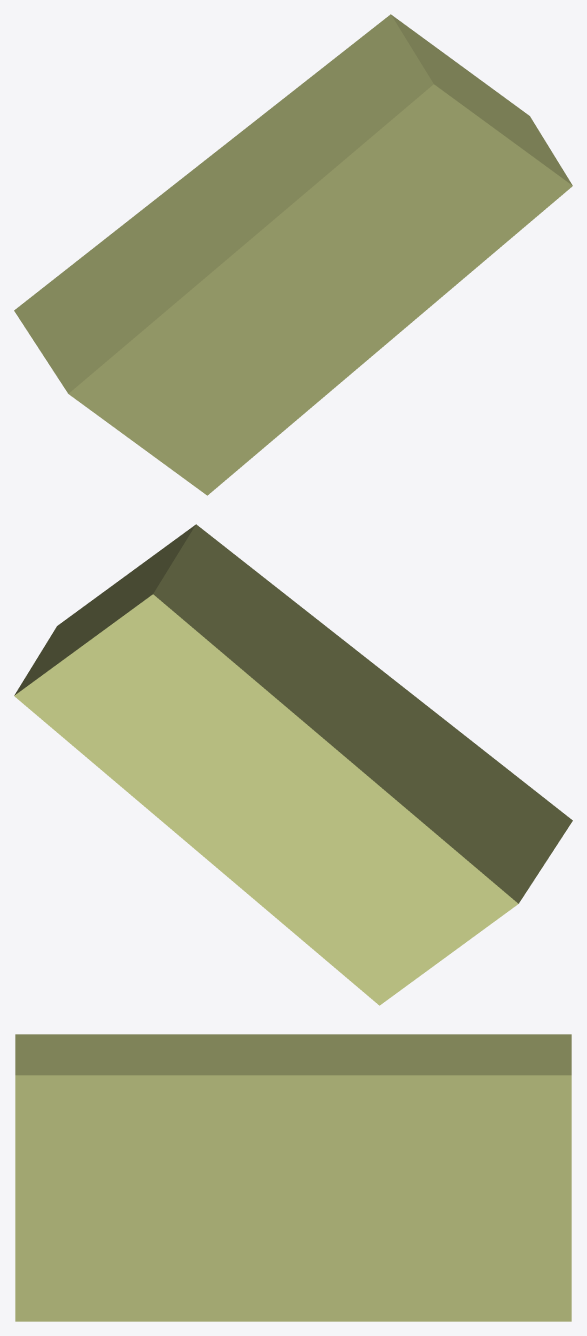
The picture shows the model from 3 angles, top to bottom: view 1: azimuth 30°, elevation 25°; view 2: azimuth 150°, elevation 25°; view 3: azimuth 270°, elevation 25°; orthographic projection. The views are drawn at different scales.
Parts seen in each view (by area): view 1: 0_1_1_3_2_2_3_3_0_0_2; view 2: 0_1_1_3_2_2_3_3_0_0_2; view 3: 0_1_1_3_2_2_3_3_0_0_2.
Part boxes in pixels (box(x1,y1,x2,y2)): 0_1_1_3_2_2_3_3_0_0_2: box(14, 14, 572, 495); 0_1_1_3_2_2_3_3_0_0_2: box(14, 524, 572, 1005); 0_1_1_3_2_2_3_3_0_0_2: box(15, 1034, 571, 1321).
Bounding box in the file's own units: 10.46 × 7.16 × 6.
